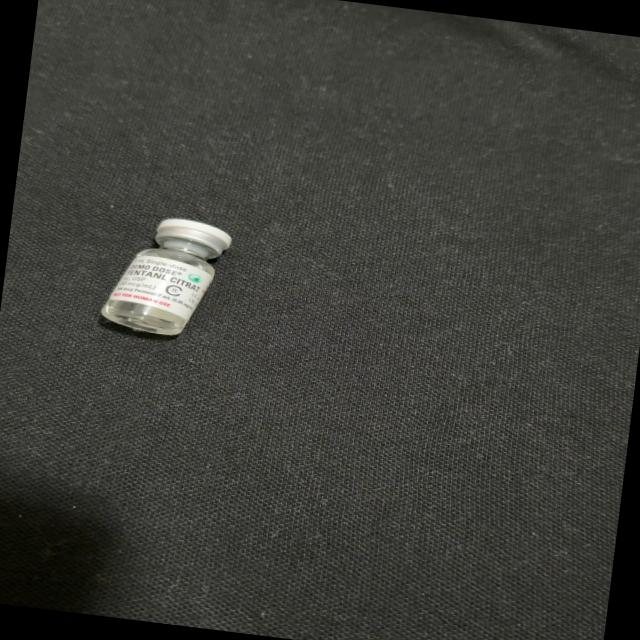fentanl_citrat: (98, 212, 230, 342)
